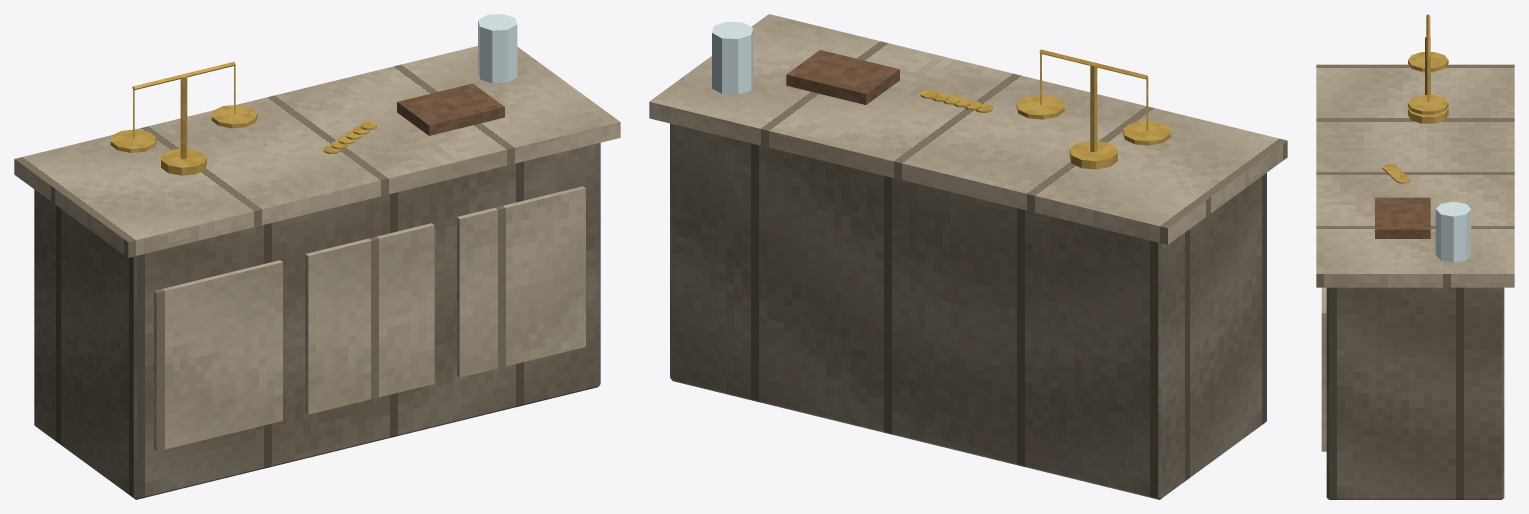
The model's file is shop_counter.obj.
The picture shows the model from 3 angles, left to right: view 1: azimuth 30°, elevation 25°; view 2: azimuth 150°, elevation 25°; view 3: azimuth 270°, elevation 25°; orthographic projection. The views are drawn at different scales.
Visible parts, largest first — view 1: shop_counter; view 2: shop_counter; view 3: shop_counter.
Boxes of the visible parts, x1,y1,x2,y2 form: shop_counter: [14, 14, 620, 499]; shop_counter: [649, 14, 1287, 499]; shop_counter: [1316, 14, 1514, 499].
Size of the model in its own units: 1.95 by 1.36 by 0.78.
